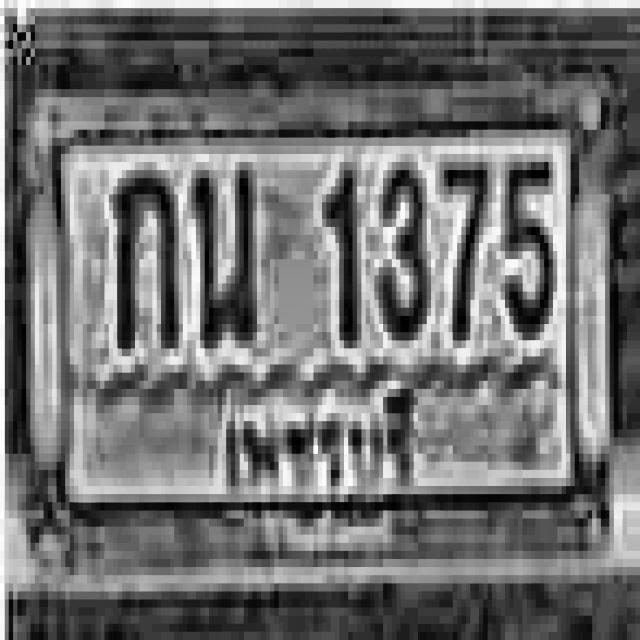license-plate: (11, 54, 618, 592)
